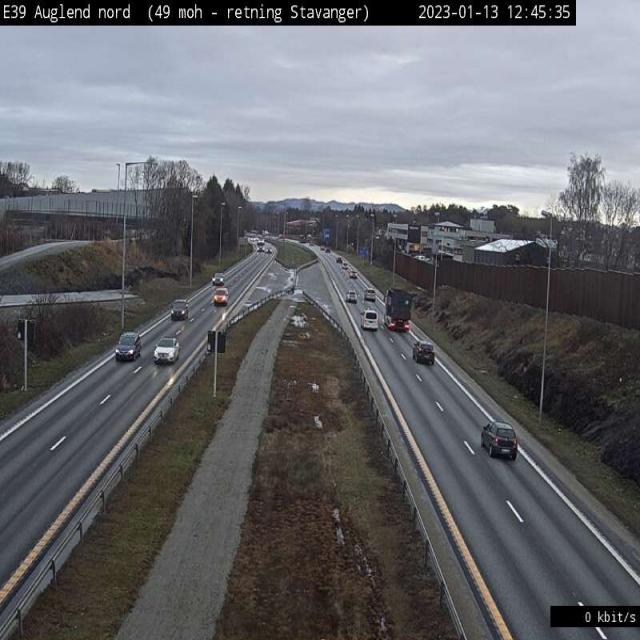vehicle: (480, 420, 519, 460), (115, 334, 142, 362), (153, 337, 180, 364), (171, 300, 189, 322)
